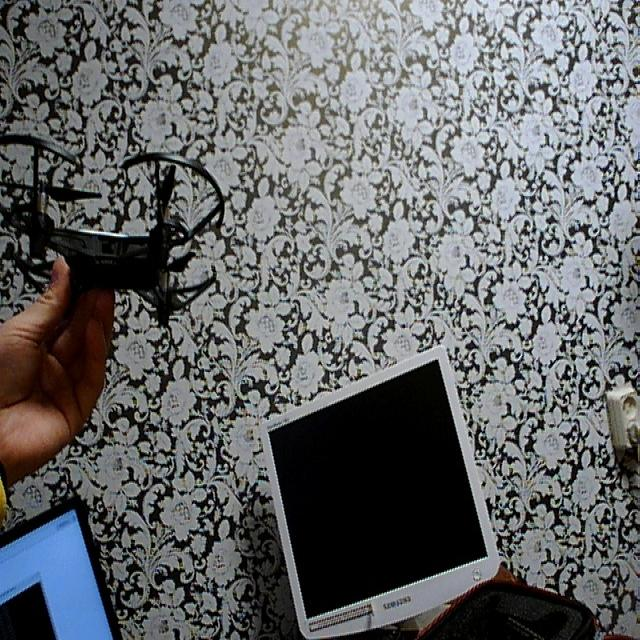drone: (0, 97, 224, 367)
